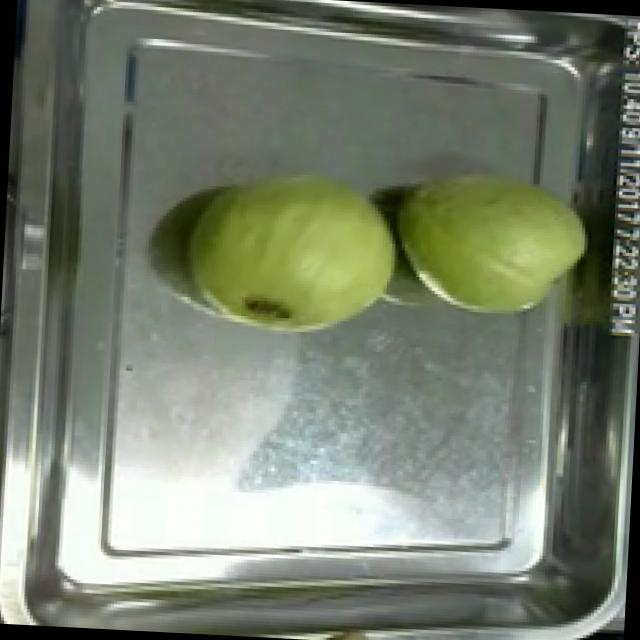Fruit: (172, 156, 408, 350), (382, 154, 598, 331)
